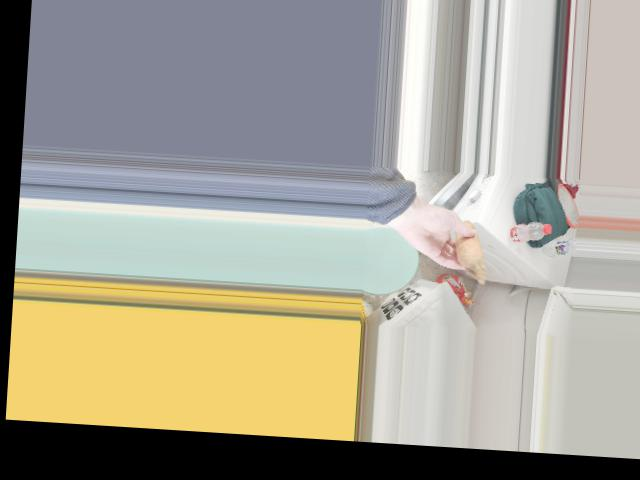sweet_potato: (455, 226, 484, 267)
